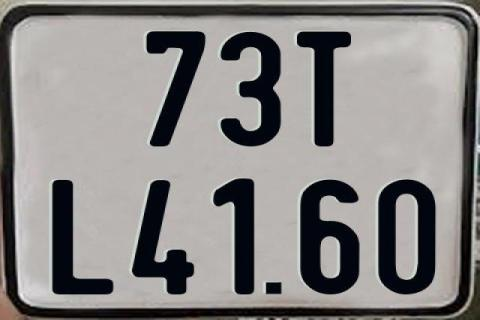0: (131, 180, 196, 296), (145, 31, 209, 148), (221, 30, 285, 146), (377, 177, 438, 293), (299, 179, 359, 295), (213, 178, 258, 298)
L: (49, 179, 110, 293)
T: (294, 31, 353, 150)
